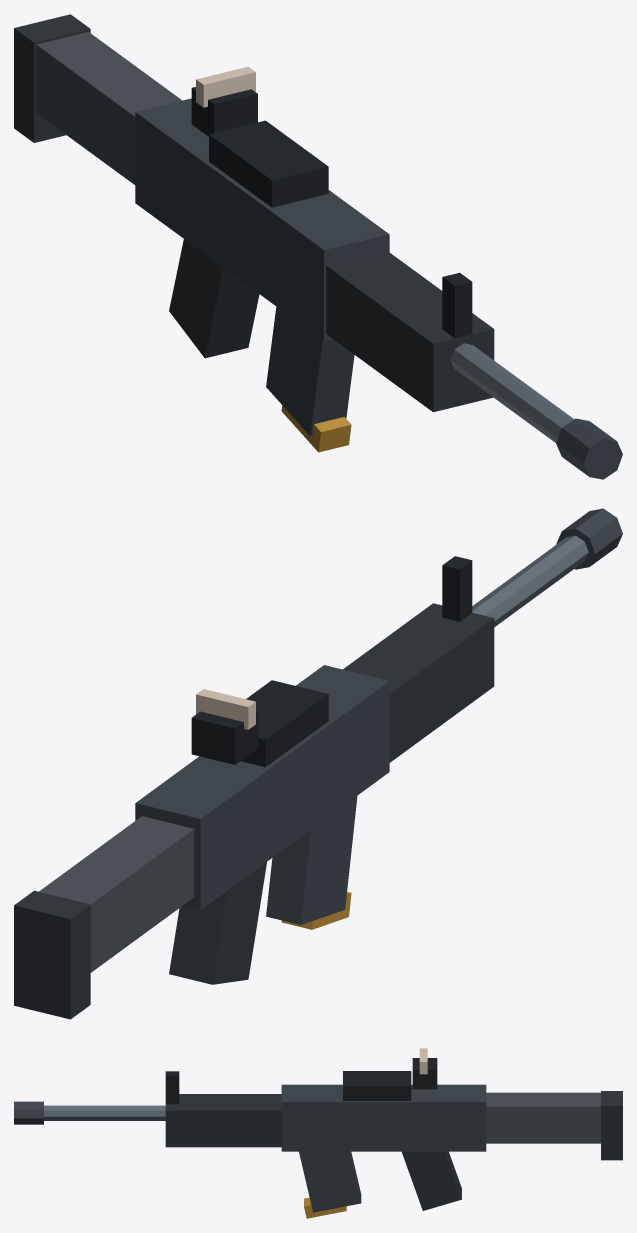
The model's file is wpn_rifle.fbx.
3 renders of one model, top to bottom at view 1: azimuth 30°, elevation 25°; view 2: azimuth 150°, elevation 25°; view 3: azimuth 270°, elevation 25°, orthographic. The views are drawn at different scales.
Parts seen in each view (by area): view 1: wpn_rifle; view 2: wpn_rifle; view 3: wpn_rifle.
Part boxes in pixels (x1,y1,x2,y2): wpn_rifle: (14,14,622,479); wpn_rifle: (14,508,622,1019); wpn_rifle: (14,1048,622,1218).
Size of the model in its own units: 30 by 129 by 446.
